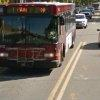buses: (0, 2, 76, 69)
cars: (75, 13, 88, 30), (80, 8, 92, 18)
